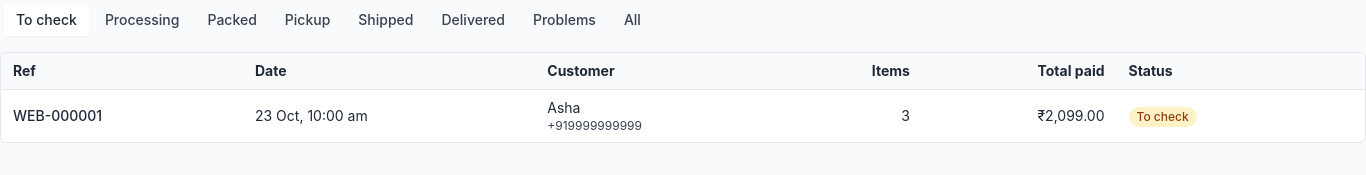
Test: empty tab says so
Check: the text "WEB-000001" is shown, box [1,90,243,142]
Click the tab "Delivered" at point(473, 20), box [430,4,517,36]
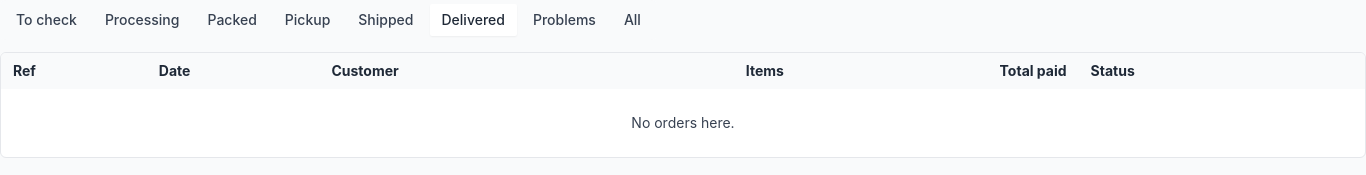
Check: the text "No orders here." is shown, box [1,89,1365,157]
